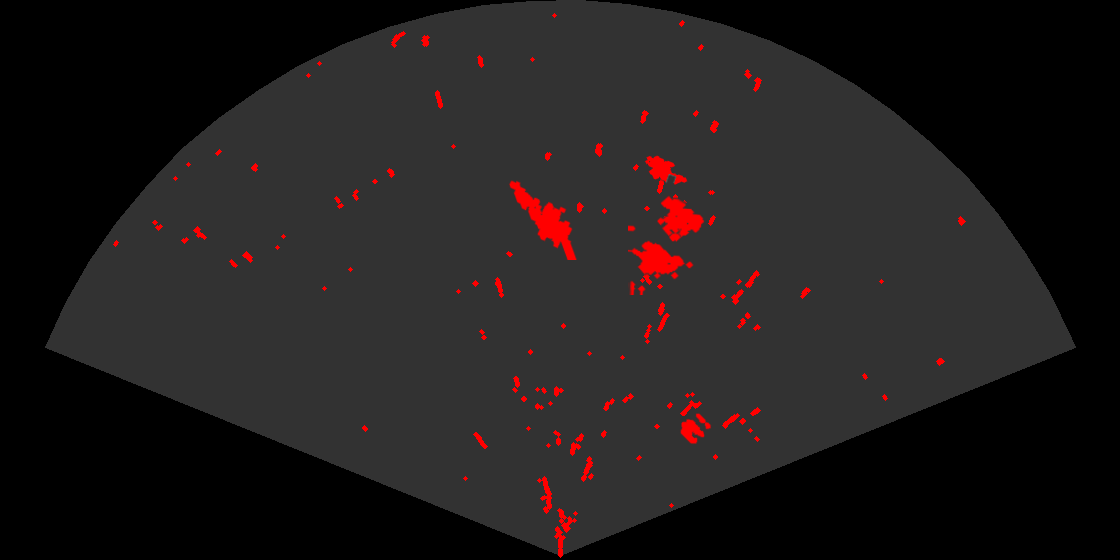AUV: (643, 154, 689, 186)
ball: (679, 412, 713, 446)
cage: (628, 194, 706, 295)
frogman: (507, 179, 578, 260)
